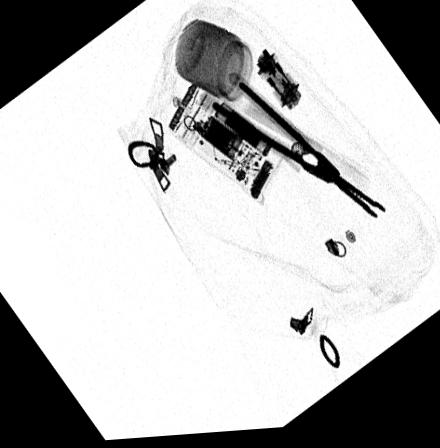Pliers: (207, 77, 384, 225)
